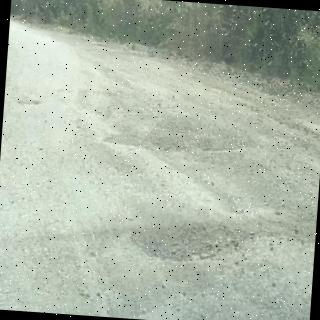pothole: (102, 115, 246, 155), (133, 226, 249, 261)
